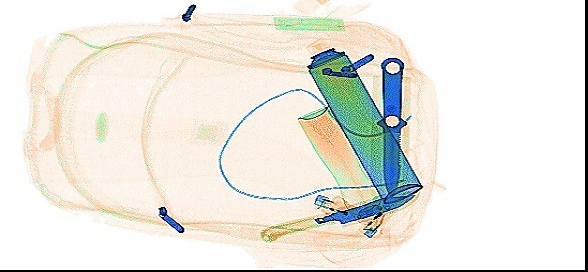knife: (258, 186, 420, 243), (369, 54, 413, 199)
lighter: (361, 201, 398, 237), (312, 193, 360, 217)
pressure: (302, 34, 424, 204), (295, 103, 391, 238)
